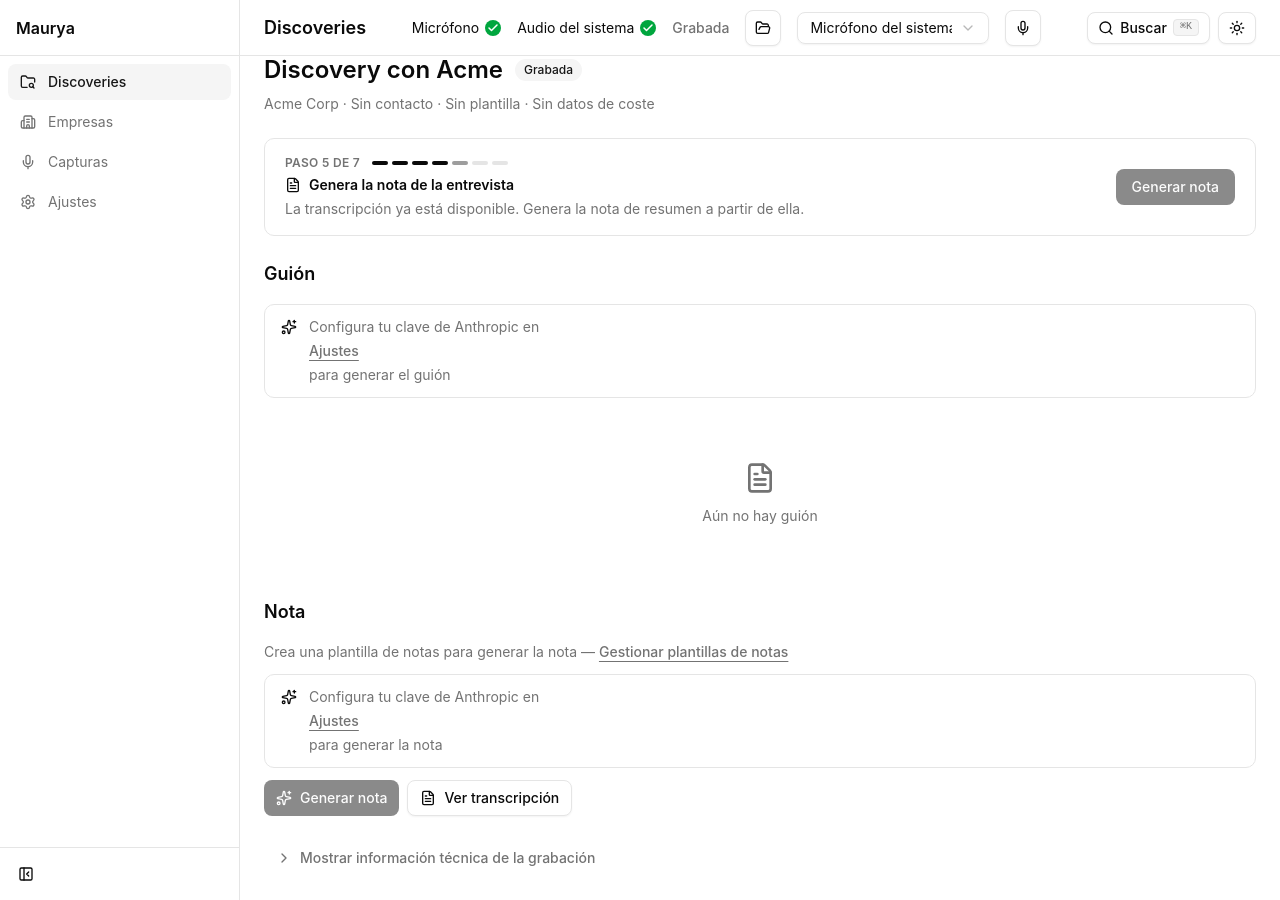
Test: RecordingTechInfo (SPEC-059 — información técnica tras un desplegable al final) › desplegable al final de la pantalla › expands on click showing the "Latencia STT" row and both file paths
The image size is (1280, 900).
(page scrolled)
Click the button with test id "recording-tech-info-trigger" at {"x": 448, "y": 858}, box [264, 840, 1256, 876]
(page scrolled)
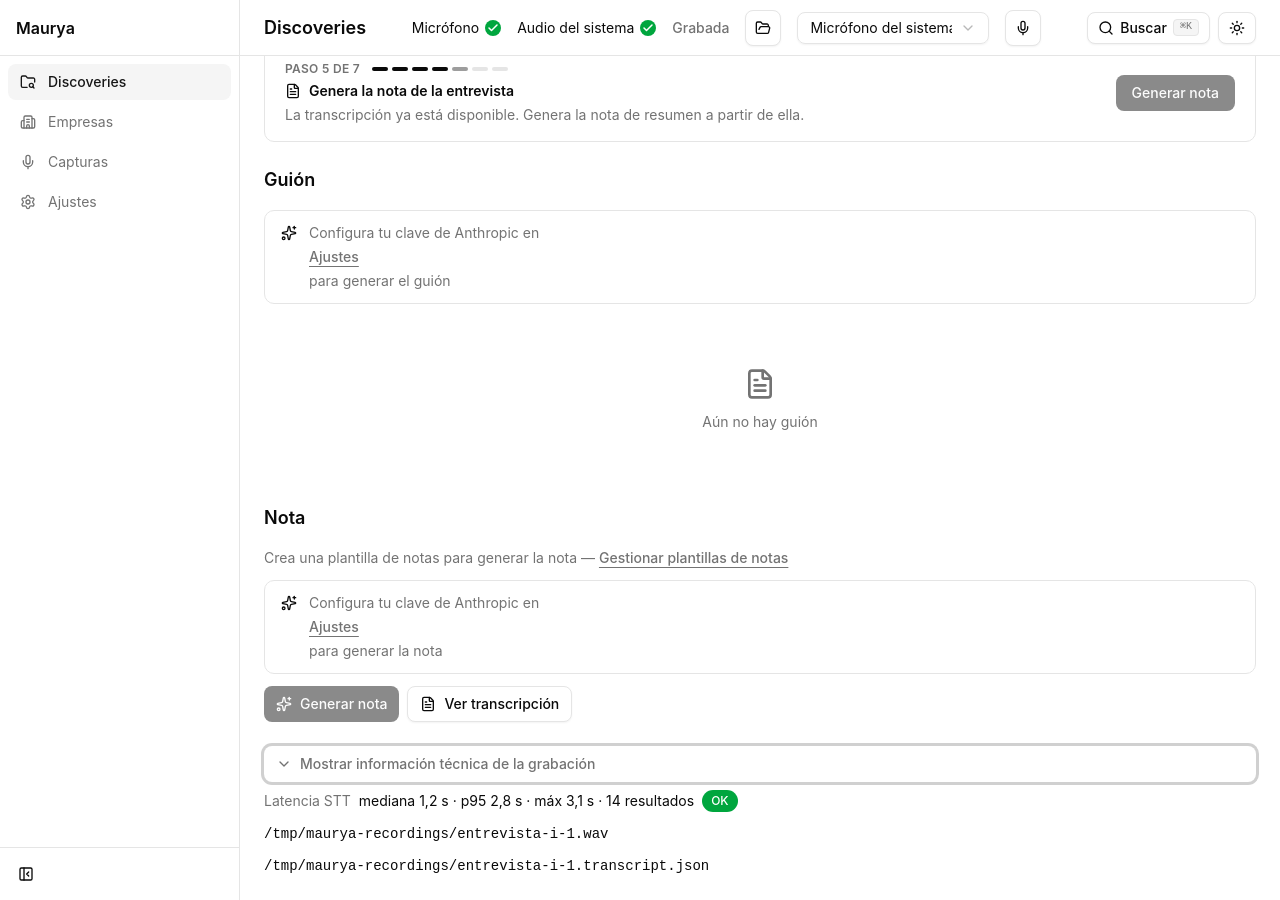
expect the text "Latencia STT" is shown: met, box [264, 791, 351, 811]
expect the text "mediana 1,2 s · p95 2,8 s · máx 3,1 s · 14 resultados" is shown: met, box [359, 791, 694, 811]
expect the text "OK" is shown: met, box [702, 790, 738, 812]
